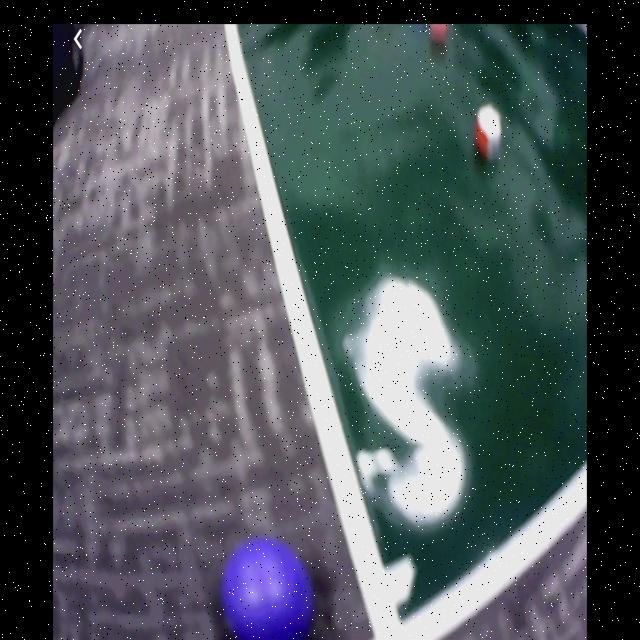ball: (225, 542, 316, 640)
